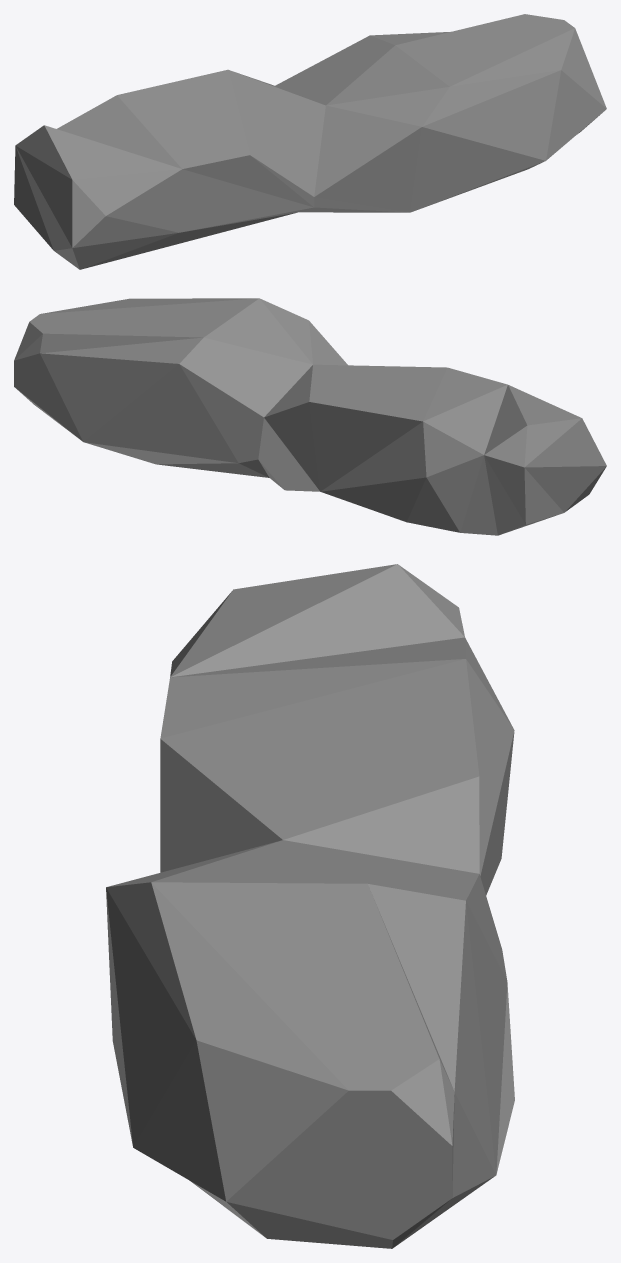
The model's file is Stone_B_04.FBX.
The picture shows the model from 3 angles, top to bottom: view 1: azimuth 30°, elevation 25°; view 2: azimuth 150°, elevation 25°; view 3: azimuth 270°, elevation 25°; orthographic projection. The views are drawn at different scales.
Parts seen in each view (by area): view 1: Stone_B_04; view 2: Stone_B_04; view 3: Stone_B_04.
Boxes of the visible parts, box(x1,y1,x2,y2) form: Stone_B_04: box(14, 14, 606, 269); Stone_B_04: box(14, 298, 606, 535); Stone_B_04: box(106, 564, 514, 1248).
Size of the model in its own units: 9.9 by 1.85 by 3.33.
